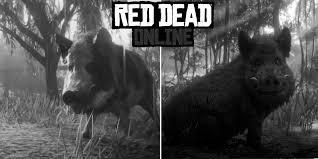wildboar: (162, 26, 299, 152), (52, 28, 160, 140)
